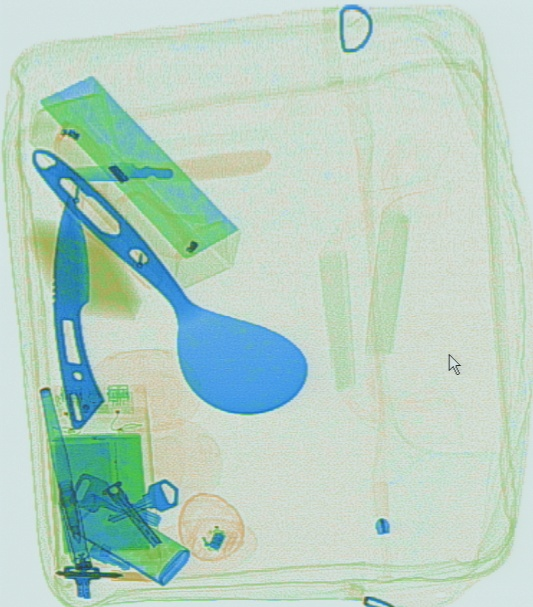knife: (51, 191, 107, 429), (48, 149, 271, 182)
